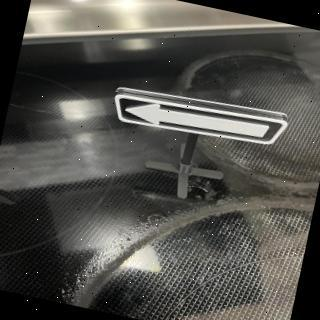sign_oneway_left: (109, 84, 291, 159)
